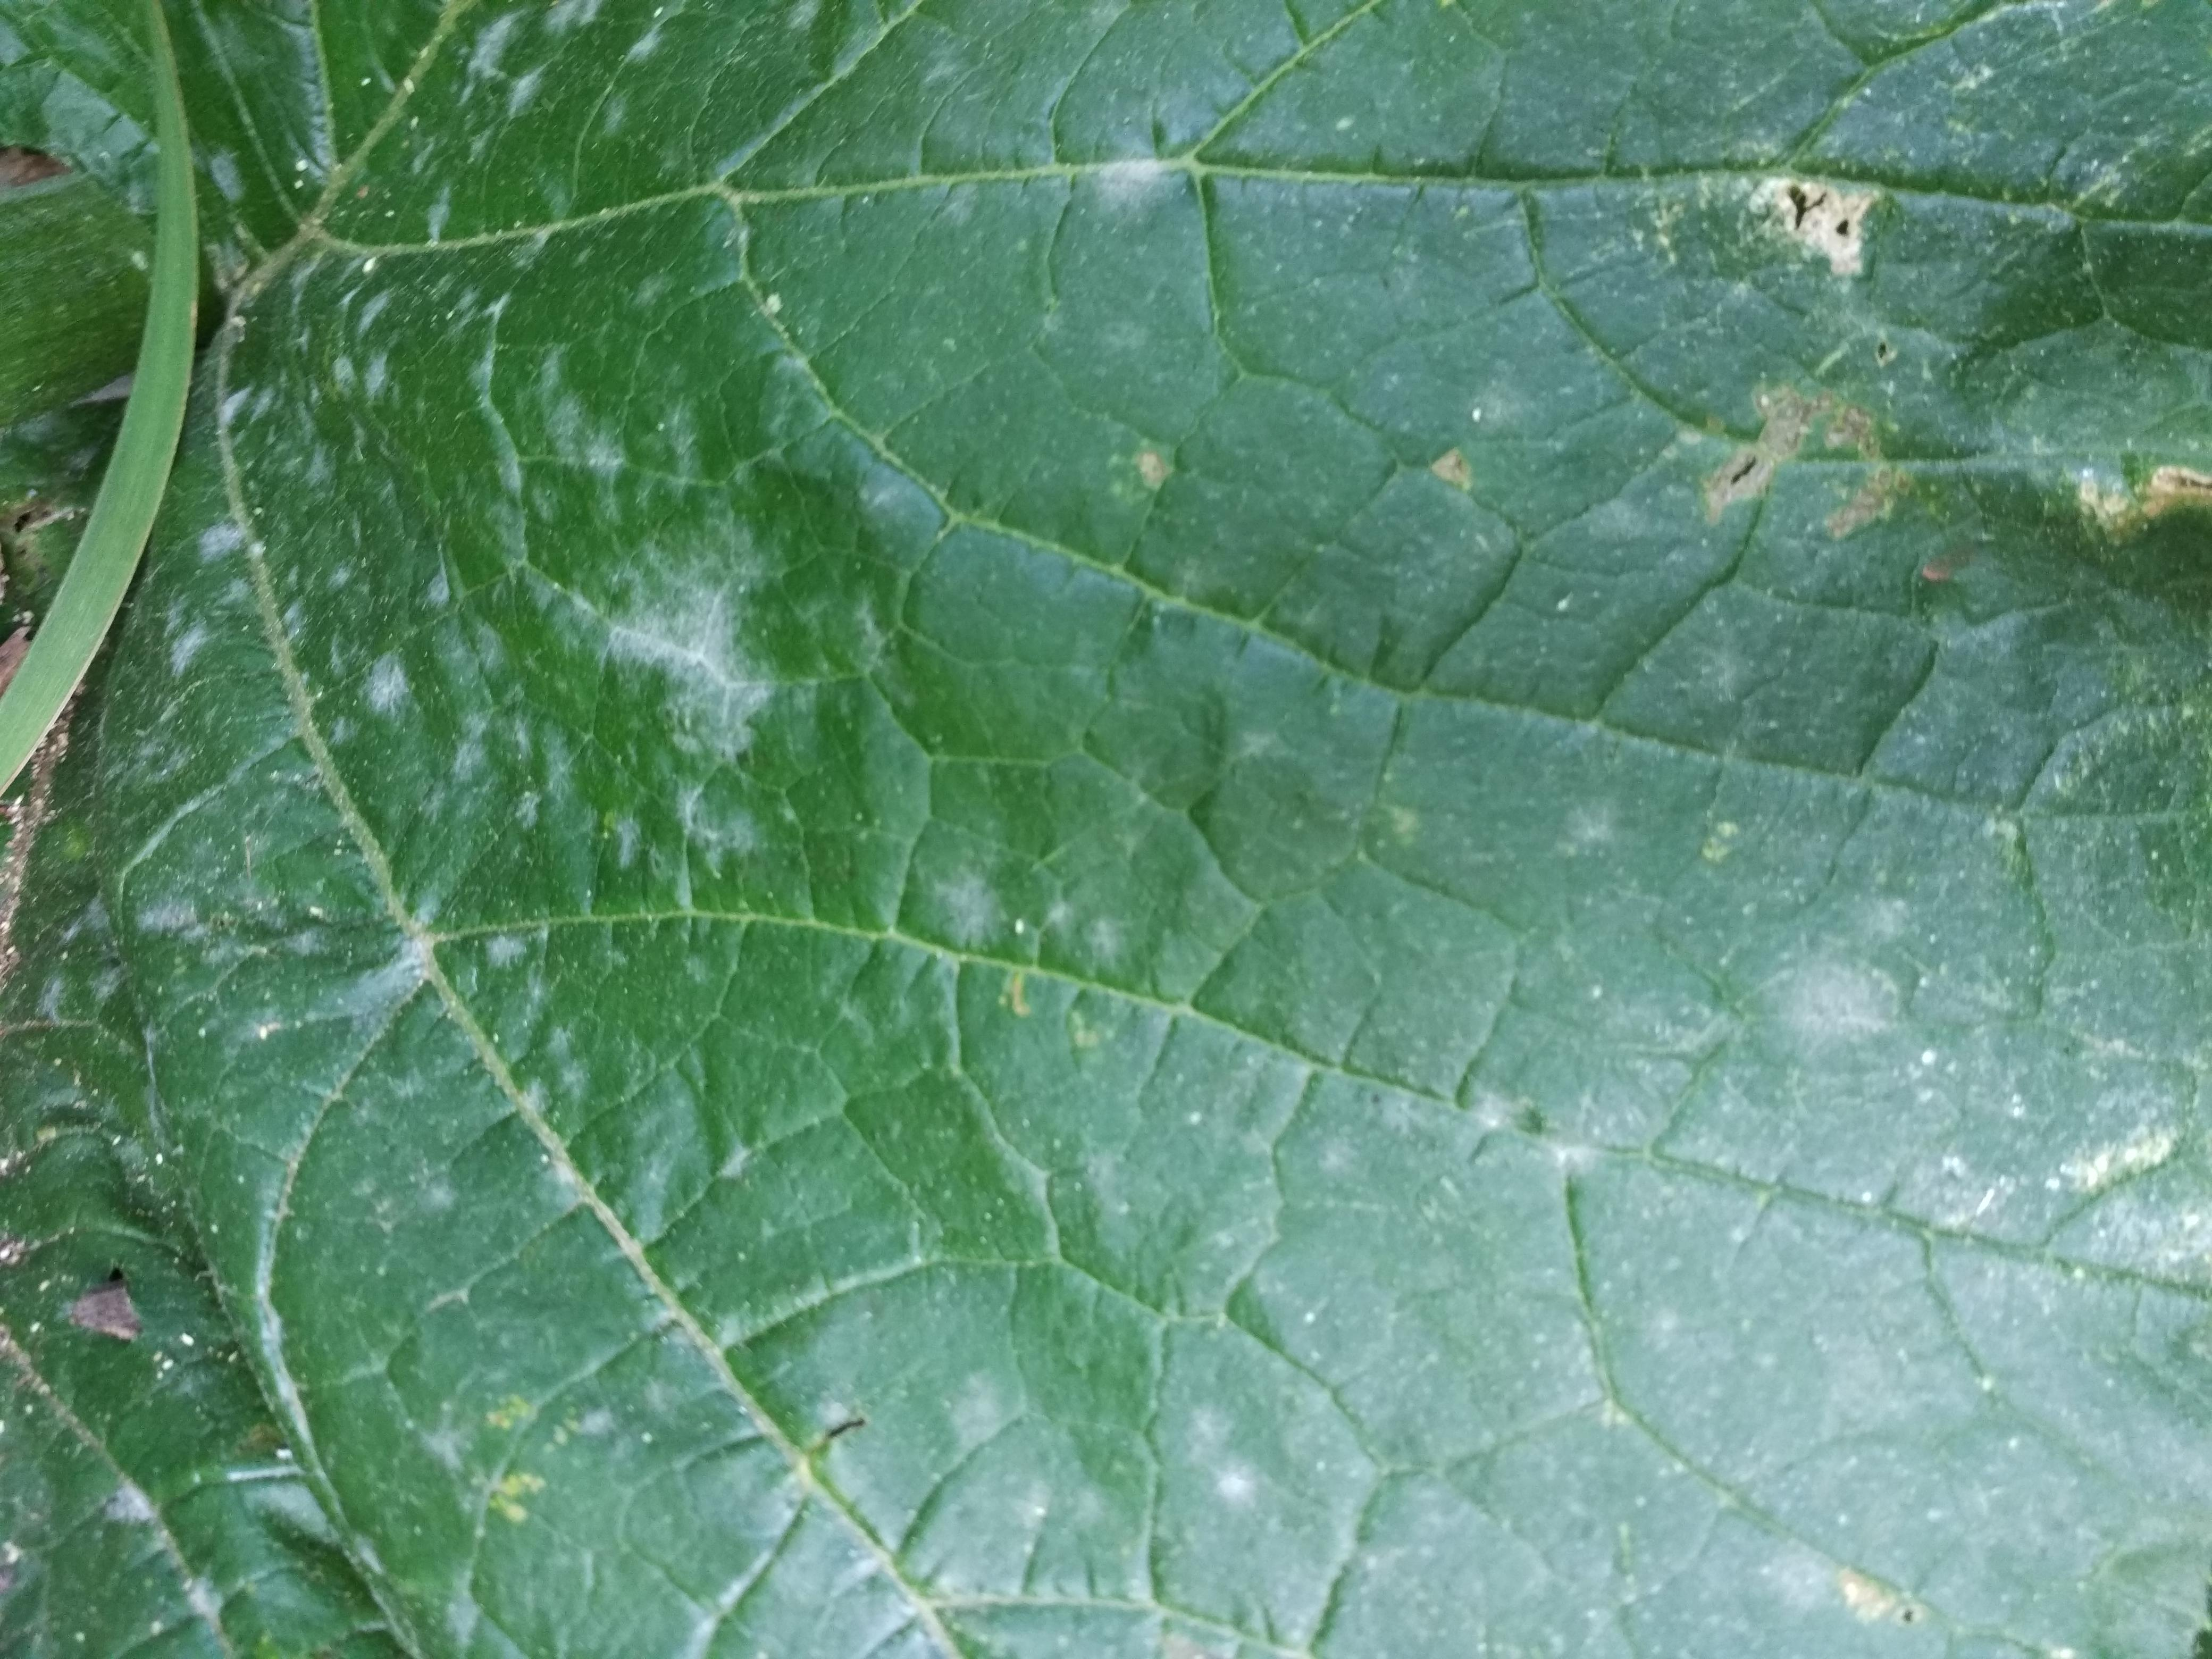Squash Powdery mildew leaf: (9, 2, 2212, 1633)
